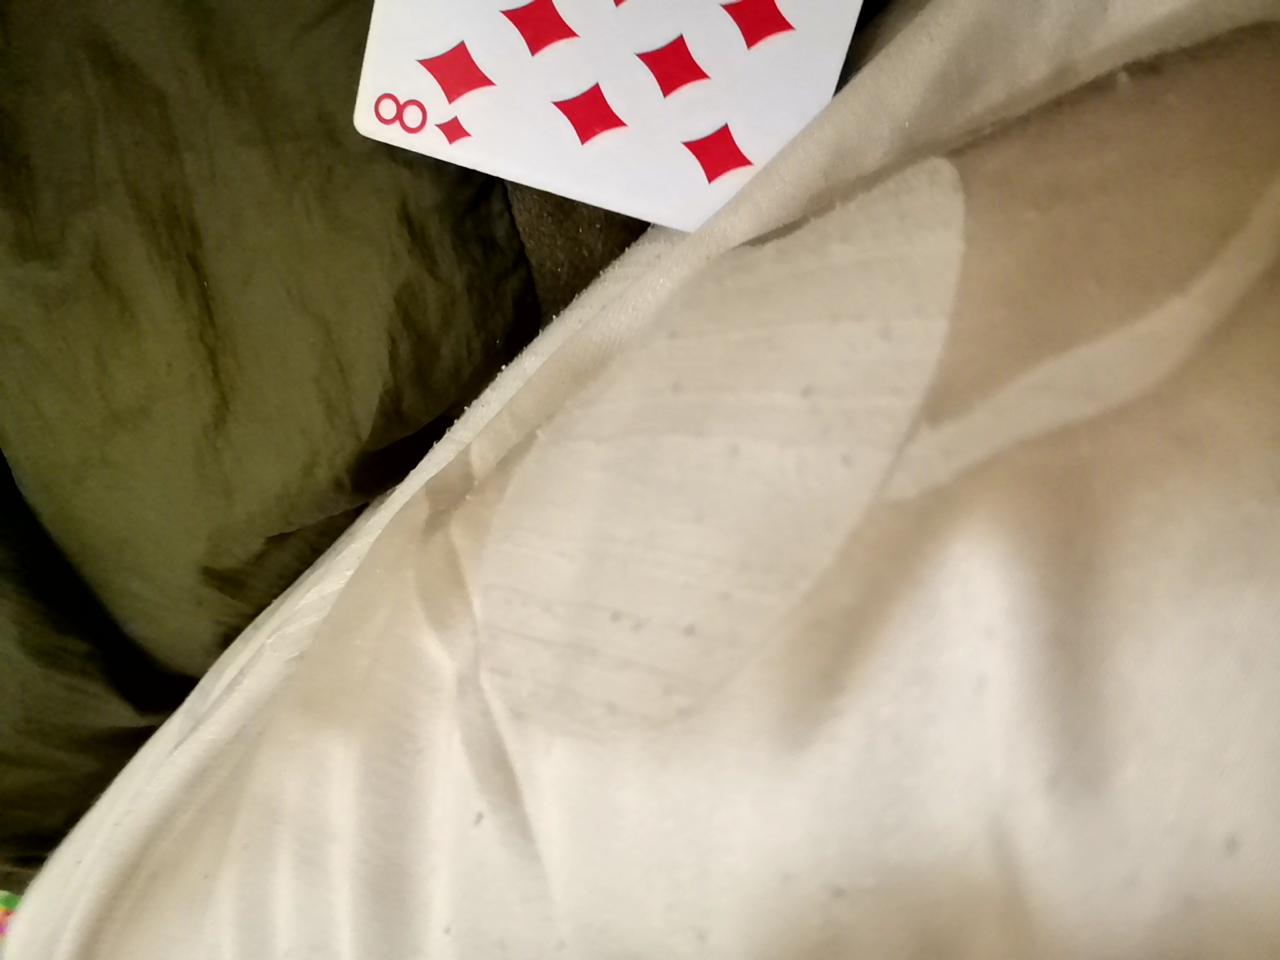fk 8: (340, 0, 905, 212)
